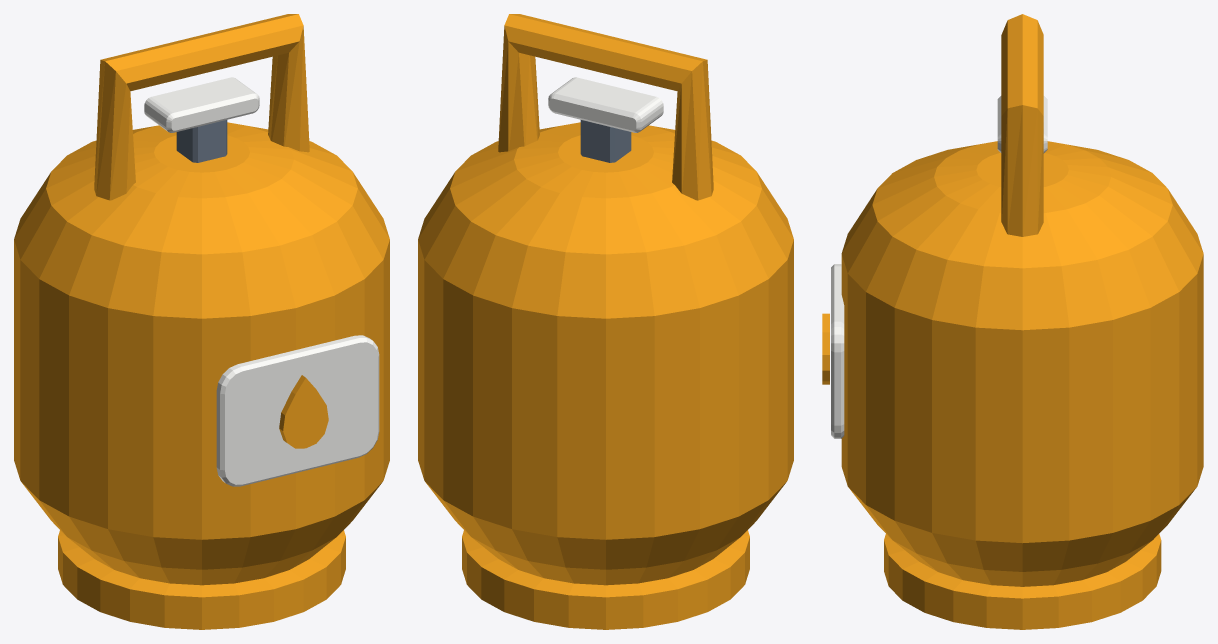
File: lpg_p13.glb
3 views of the same model, side by side, from view 1: azimuth 30°, elevation 25°; view 2: azimuth 150°, elevation 25°; view 3: azimuth 270°, elevation 25° (orthographic). The views are drawn at different scales.
Parts seen in each view (by area): view 1: lpg_p13; view 2: lpg_p13; view 3: lpg_p13.
Part boxes in pixels (bbox=[...]): lpg_p13: bbox=[14, 14, 389, 629]; lpg_p13: bbox=[418, 14, 793, 629]; lpg_p13: bbox=[822, 14, 1203, 629].
Bounding box in the file's own units: 0.94 × 1.47 × 0.99.
